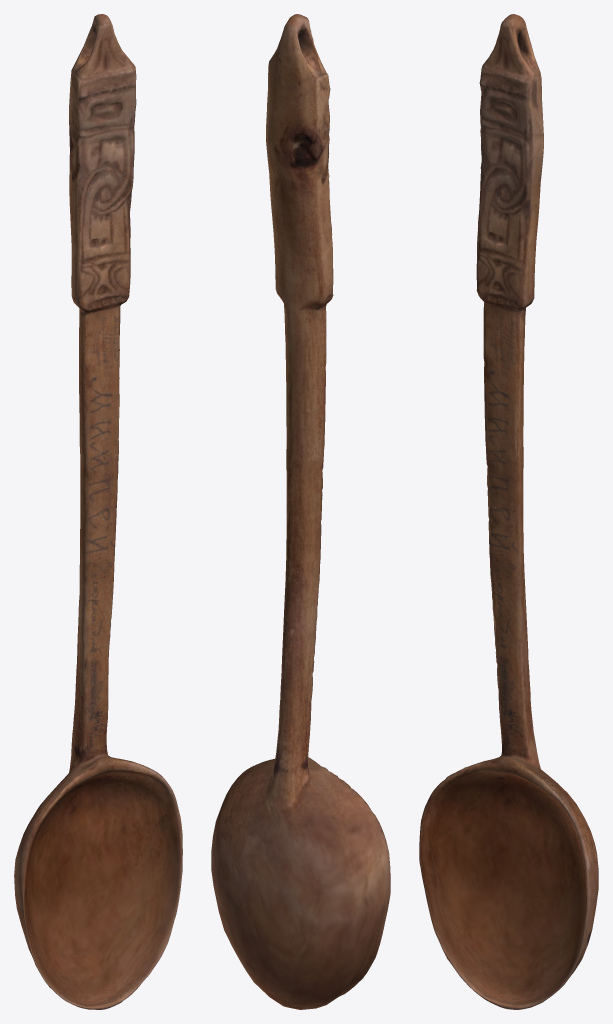
The model's file is Spoon1.fbx.
3 renders of one model, left to right at view 1: azimuth 30°, elevation 25°; view 2: azimuth 150°, elevation 25°; view 3: azimuth 330°, elevation 25°, orthographic.
Parts seen in each view (by area): view 1: Spoon1; view 2: Spoon1; view 3: Spoon1.
Boxes of the visible parts, left/top/right/bottom form: Spoon1: left=14, top=14, right=182, bottom=1009; Spoon1: left=211, top=14, right=390, bottom=1009; Spoon1: left=419, top=14, right=598, bottom=1009.
Size of the model in its own units: 43.98 by 251 by 15.5.
